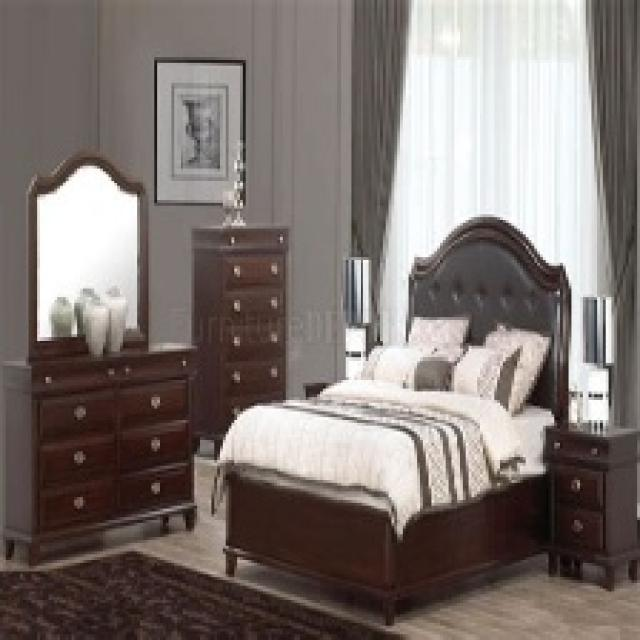Bed: (212, 214, 572, 623)
